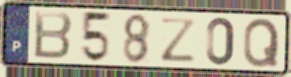0: (205, 16, 236, 67)
5: (79, 10, 112, 65)
8: (122, 12, 153, 65)
B: (32, 10, 74, 62)
Q: (241, 17, 281, 69)
Z: (158, 16, 199, 63)
